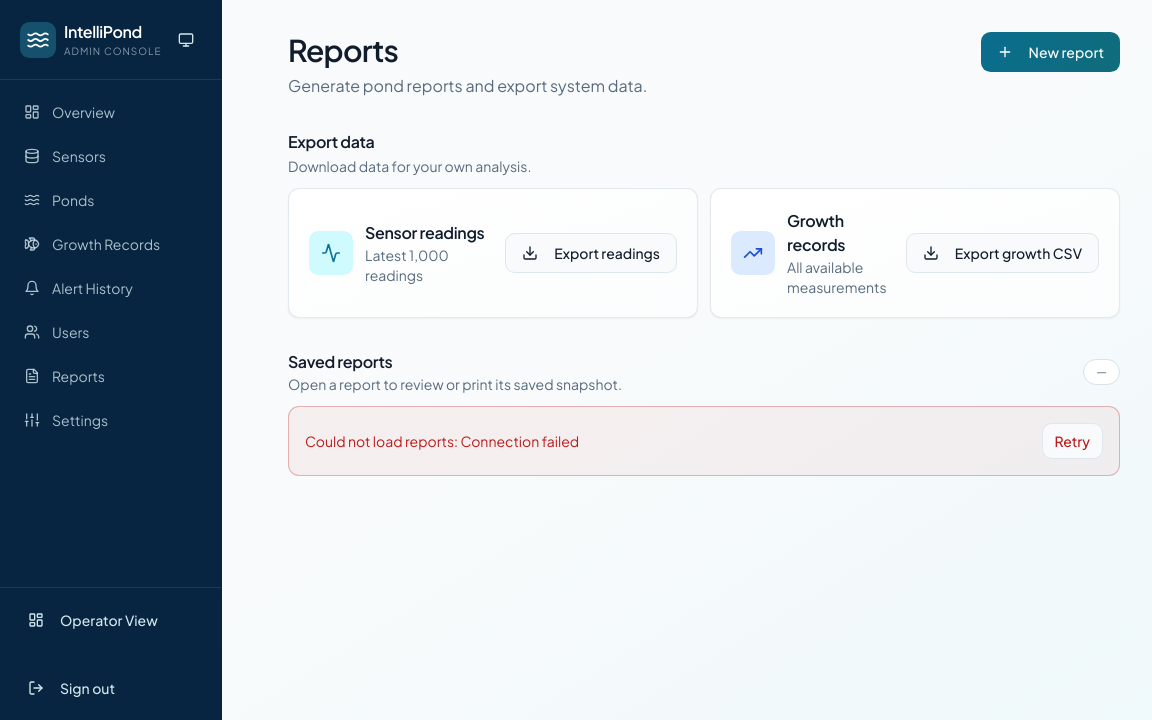
Admin reports › shows a retryable loading error
Check: the message shows "Could not load reports: Connection failed", box [305,432,579,450]
Click the button "Retry": (1072,441) [1042,423,1103,459]
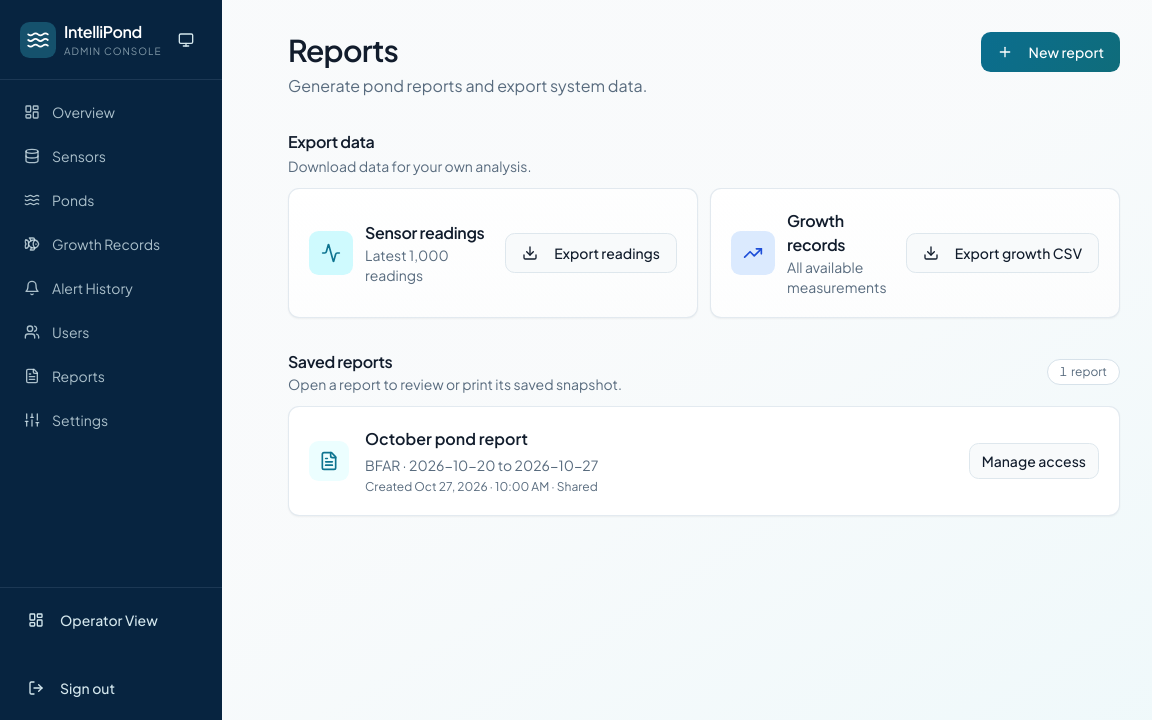
Check: the link "October pond report" is shown, box [365,428,528,449]
